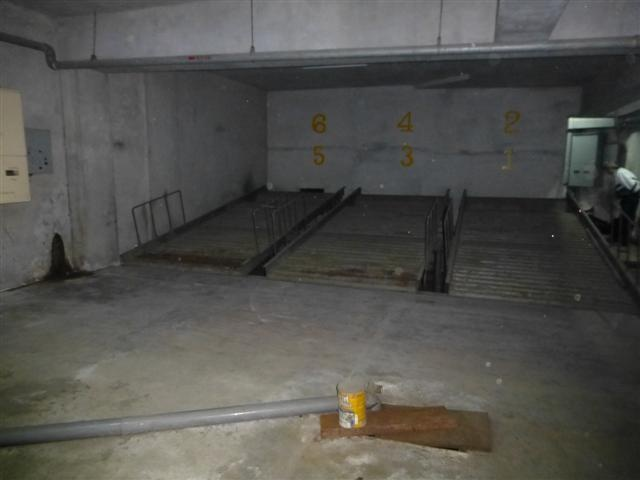bottle: (334, 382, 370, 430)
